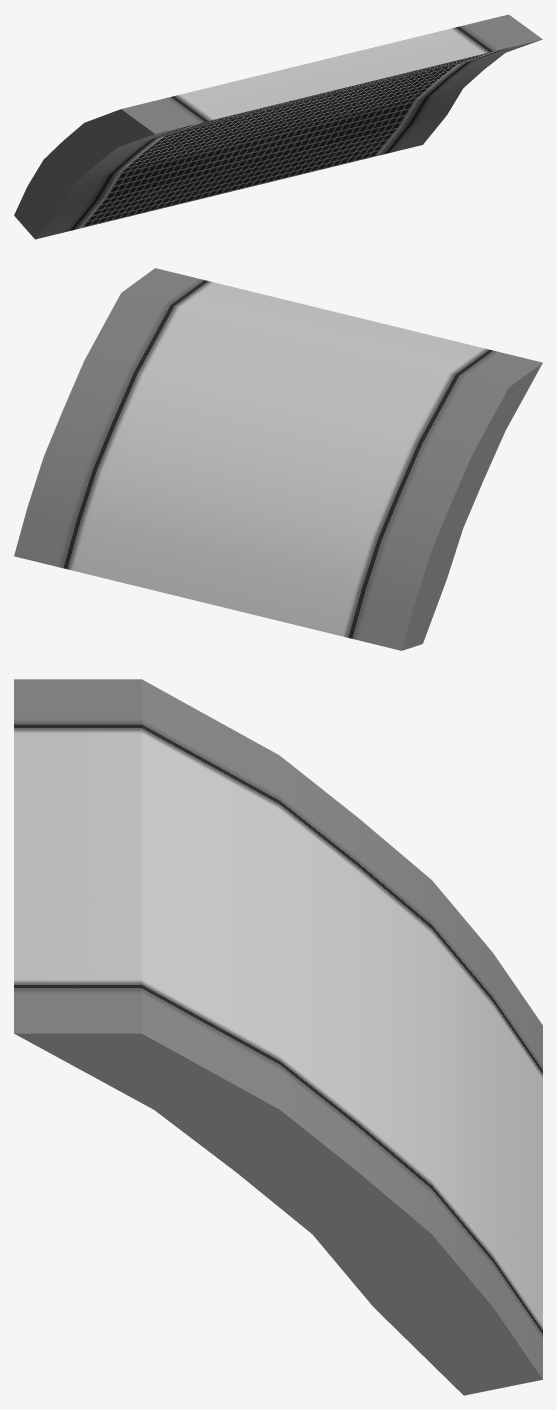
The model's file is Half Ceiling Transition.fbx.
The picture shows the model from 3 angles, top to bottom: view 1: azimuth 30°, elevation 25°; view 2: azimuth 150°, elevation 25°; view 3: azimuth 270°, elevation 25°; orthographic projection. The views are drawn at different scales.
Visible parts, largest first — view 1: Door_Door_Door_Door_Door_Door_Door_Door_Door_Door_Door_Door_; view 2: Door_Door_Door_Door_Door_Door_Door_Door_Door_Door_Door_Door_; view 3: Door_Door_Door_Door_Door_Door_Door_Door_Door_Door_Door_Door_.
Part boxes in pixels (x1,y1,x2,y2): Door_Door_Door_Door_Door_Door_Door_Door_Door_Door_Door_Door_: (14,14,542,239); Door_Door_Door_Door_Door_Door_Door_Door_Door_Door_Door_Door_: (14,268,542,650); Door_Door_Door_Door_Door_Door_Door_Door_Door_Door_Door_Door_: (14,679,542,1395).
Bounding box in the file's own units: 549 × 262 × 346.
Materials: 1 (1 with a texture image).
